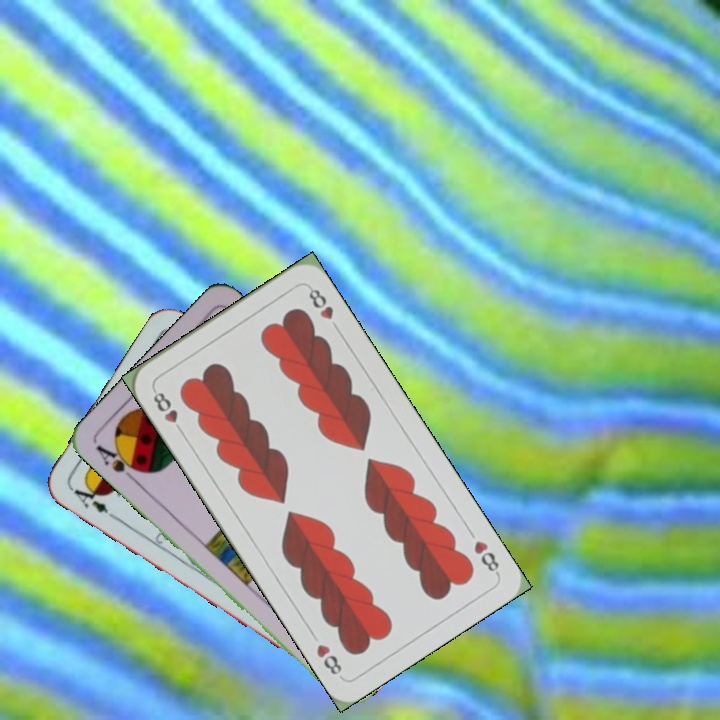EA: (69, 479, 111, 516)
H8: (149, 385, 187, 437), (469, 536, 502, 578)
SA: (91, 441, 146, 485)
